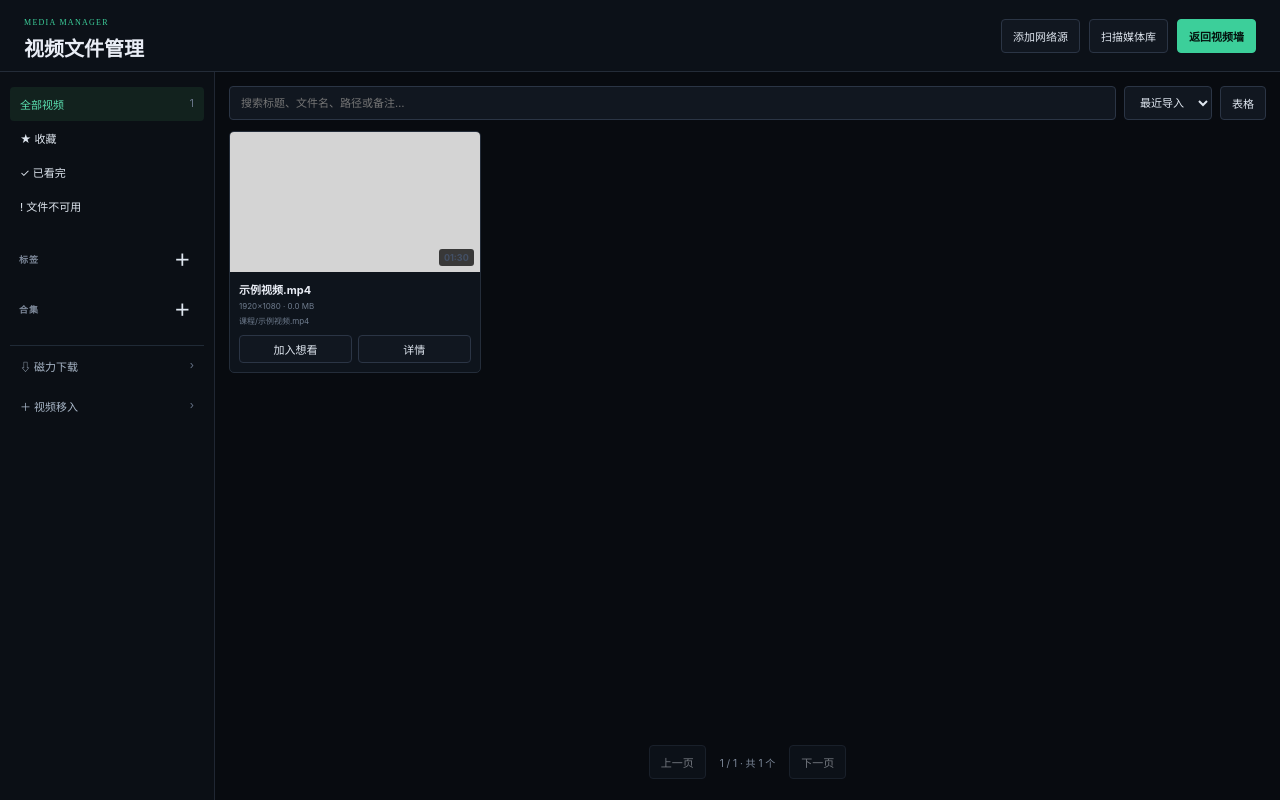
Test: LibraryManager › shows downloads inside the media manager content area
Click the button with class "download-nav": [107, 366] box top-left (10, 345), bottom-right (204, 386)
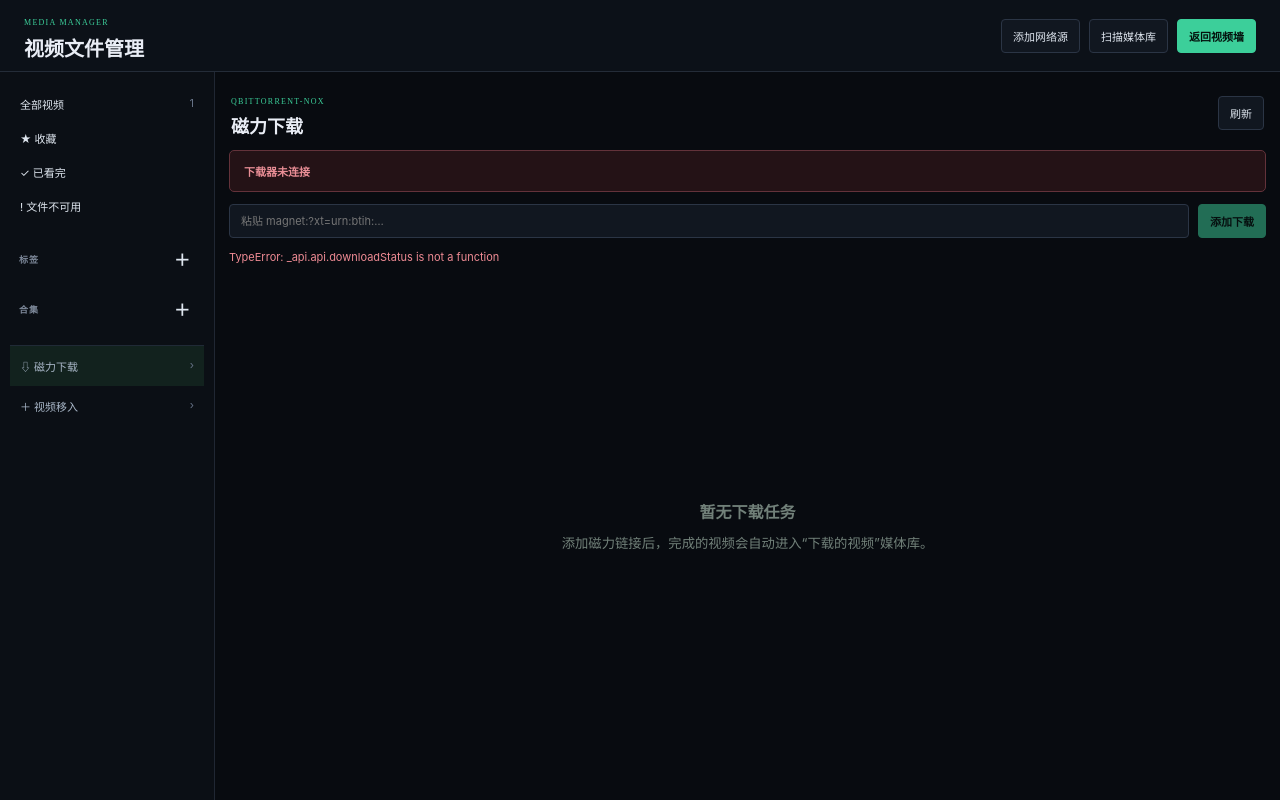
Expected: the text "磁力下载" is shown, top-left (20, 360), bottom-right (78, 374)
Now the element with class "download-panel" is shown
